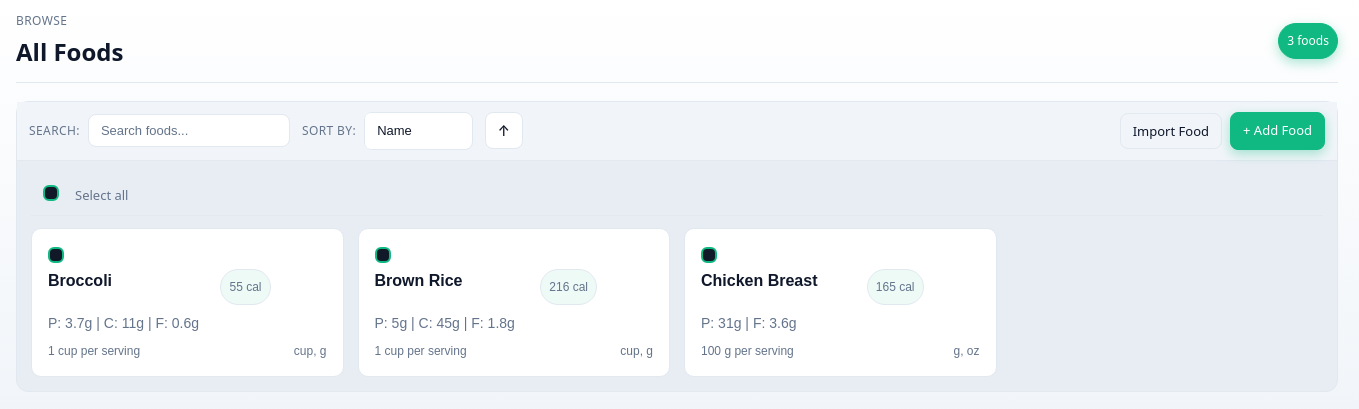
Test: Foods List Page › Selection › selects individual food when checkbox is clicked
This screenshot has width=1359, height=409.
Click the checkbox named "select chicken breast". click: [709, 254]
box: [701,246,717,262]
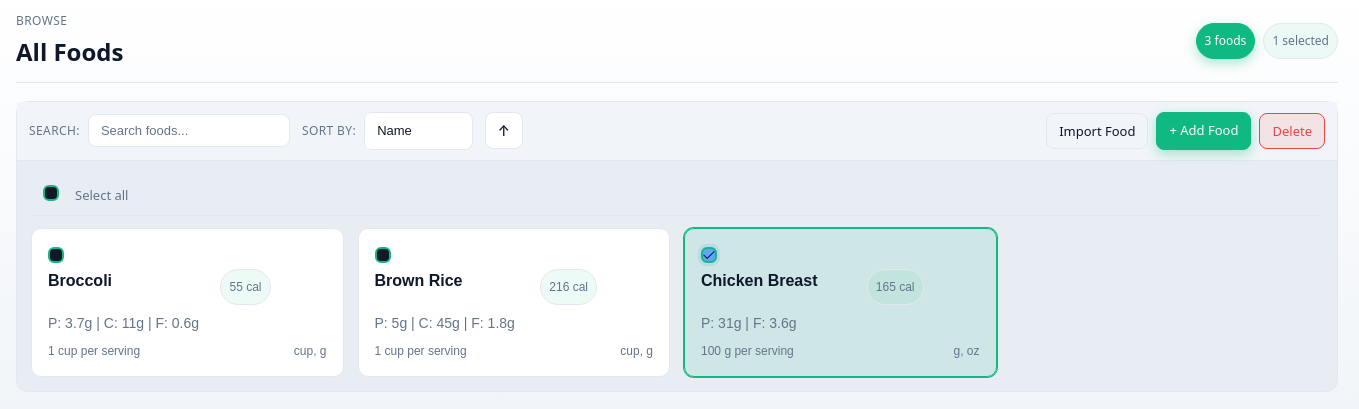
Result: the checkbox named "select chicken breast" is checked at [701,246,717,262]
Result: the text "1 selected" is shown at [1263,23,1338,59]
